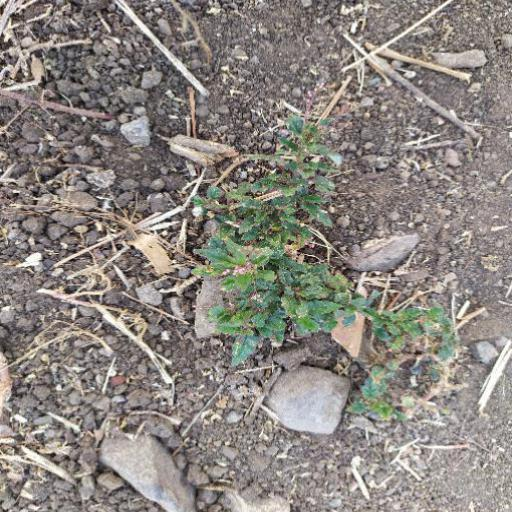weed: (183, 80, 461, 405)
